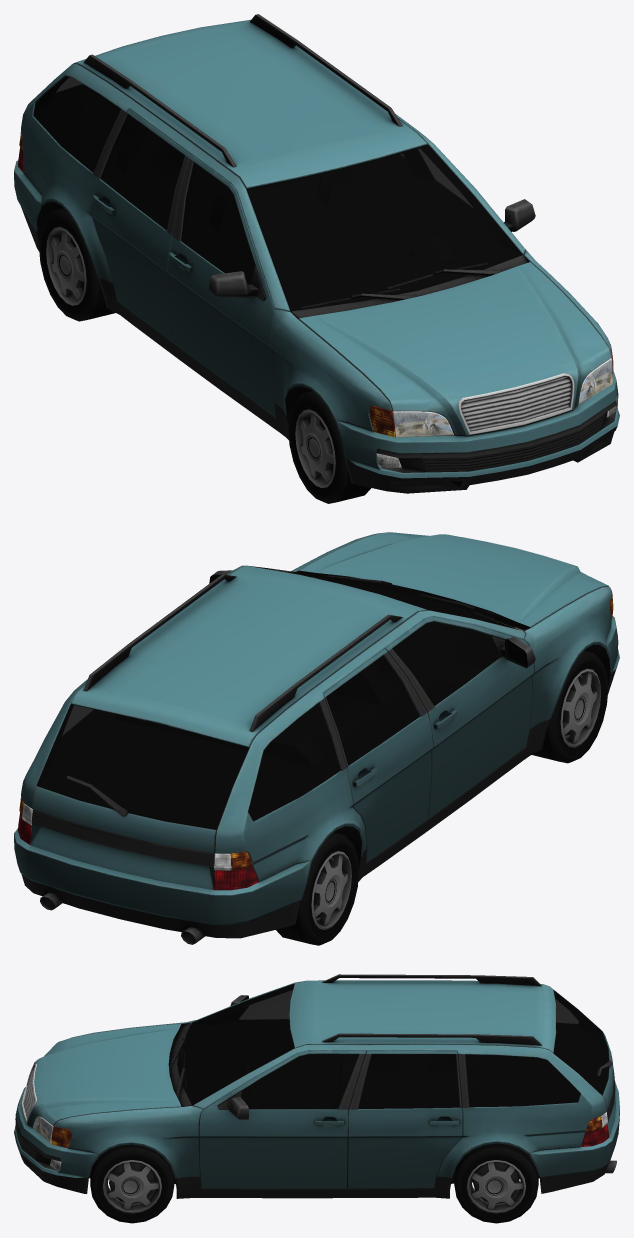
The model's file is wagon.glb.
The picture shows the model from 3 angles, top to bottom: view 1: azimuth 30°, elevation 25°; view 2: azimuth 150°, elevation 25°; view 3: azimuth 270°, elevation 25°; orthographic projection. The views are drawn at different scales.
Visible parts, largest first — view 1: Wagon Body_Body_0, Wagon Body_Glass_0, Wheel_A002_Wheel_0, Wheel_A003_Wheel_0, Wagon Body_Optics_0; view 2: Wagon Body_Body_0, Wagon Body_Glass_0, Wheel_A003_Wheel_0, Wheel_A002_Wheel_0, Wagon Body_Optics_0; view 3: Wagon Body_Body_0, Wagon Body_Glass_0, Wheel_A001_Wheel_0, Wheel_A_Wheel_0, Wagon Body_Optics_0.
Part boxes in pixels (box(x1,y1,x2,y2)): Wagon Body_Body_0: box(14, 14, 619, 493); Wagon Body_Glass_0: box(33, 76, 522, 311); Wheel_A002_Wheel_0: box(288, 391, 371, 503); Wheel_A003_Wheel_0: box(39, 208, 115, 321); Wagon Body_Optics_0: box(18, 131, 617, 468); Wagon Body_Body_0: box(14, 532, 619, 944); Wagon Body_Glass_0: box(36, 565, 522, 829); Wheel_A003_Wheel_0: box(276, 832, 359, 945); Wheel_A002_Wheel_0: box(532, 650, 608, 763); Wagon Body_Optics_0: box(18, 592, 613, 890); Wagon Body_Body_0: box(14, 974, 619, 1198); Wagon Body_Glass_0: box(177, 983, 609, 1109); Wheel_A001_Wheel_0: box(454, 1143, 538, 1223); Wheel_A_Wheel_0: box(90, 1144, 174, 1223); Wagon Body_Optics_0: box(32, 1112, 609, 1170).
Size of the model in its own units: 1.95 by 1.38 by 4.38.
Materials: 4 (3 with a texture image).
